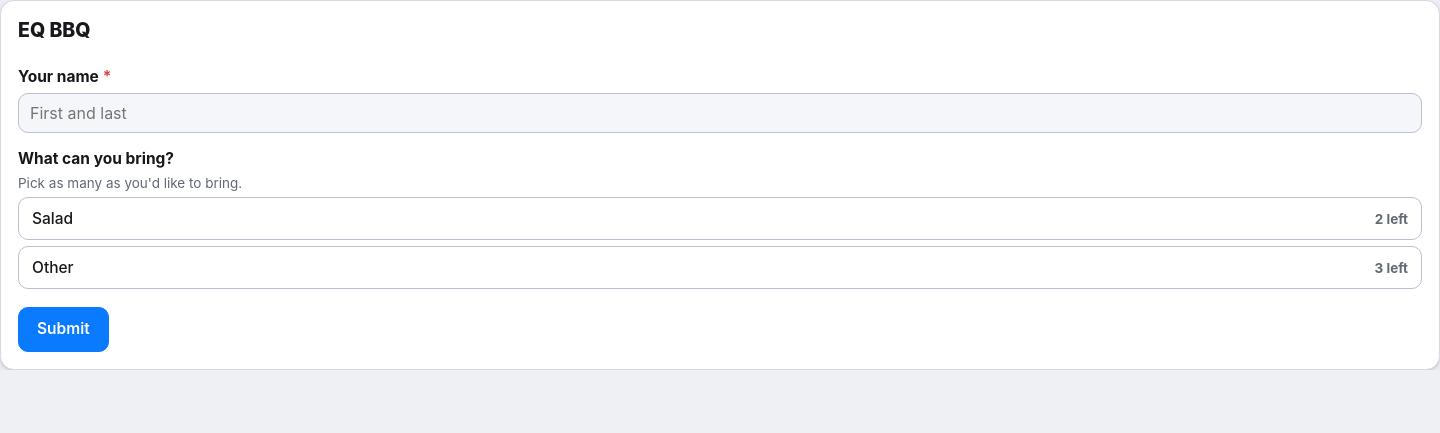
picking Other on the form › opens a box to say what
Click the button "Other 3 left".
click(53, 268)  # box [18,246,1422,289]
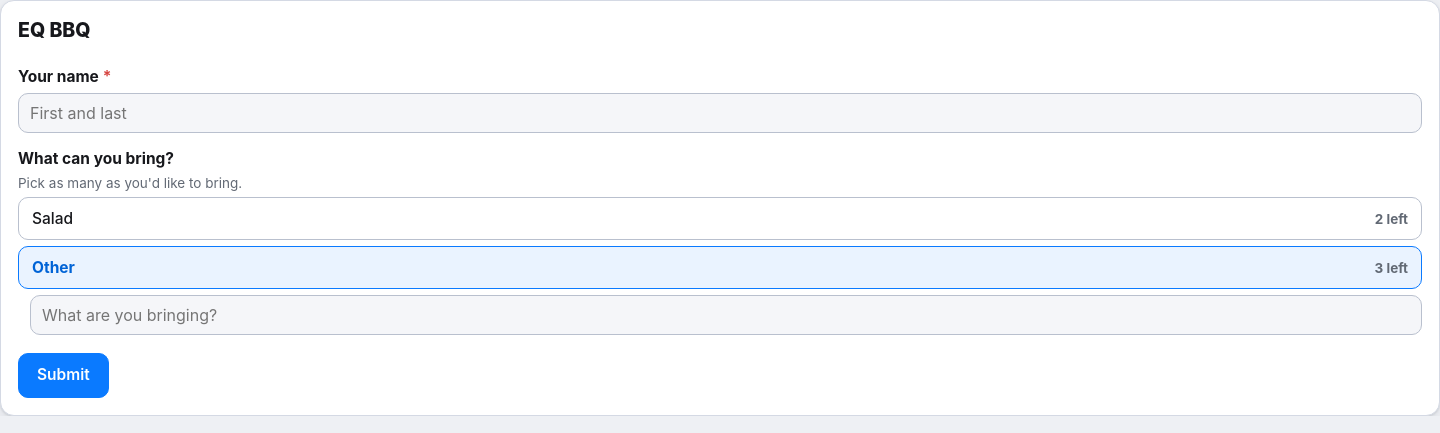
Expected: the field named "Other — what are you bringing?" is shown, [30,295,1422,335]
